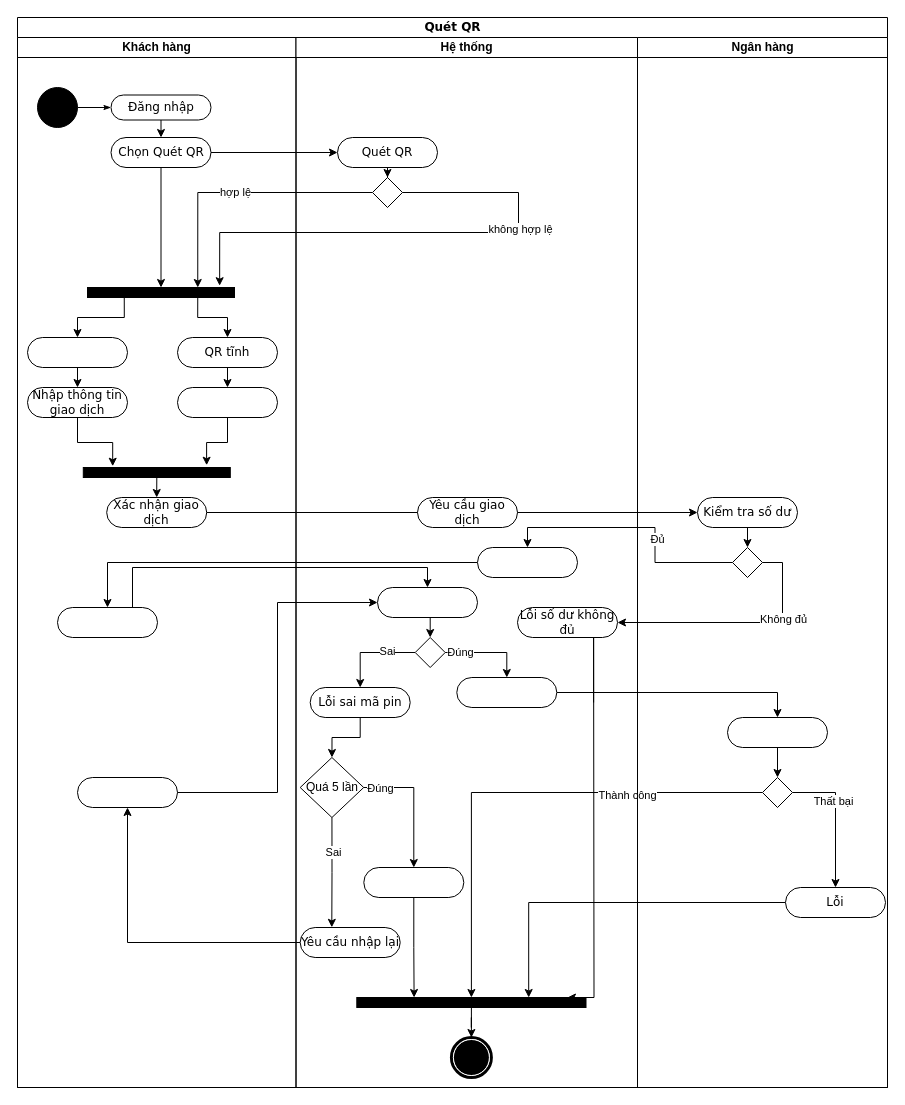
Some shapes in this 905 by 1105 pixel diagram are drawn without their labels. Each missing label, with the centre of its shape:
"Gửi yêu cầu giao dịch" belongs at (x=506, y=692).
"Khoá tài khoản" belongs at (x=413, y=882).
"Kiểm tra mã pin" belongs at (x=427, y=602).
"Kiểm tra thông tin giao dịch" belongs at (x=227, y=402).
"Nhập lại mã pin" belongs at (x=127, y=792).
"Nhập mã pin" belongs at (x=107, y=622).
"QR động" belongs at (x=77, y=352).
"Xử lý yêu cầu" belongs at (x=777, y=732).
"Yêu cầu nhập mã pin" belongs at (x=527, y=562).
